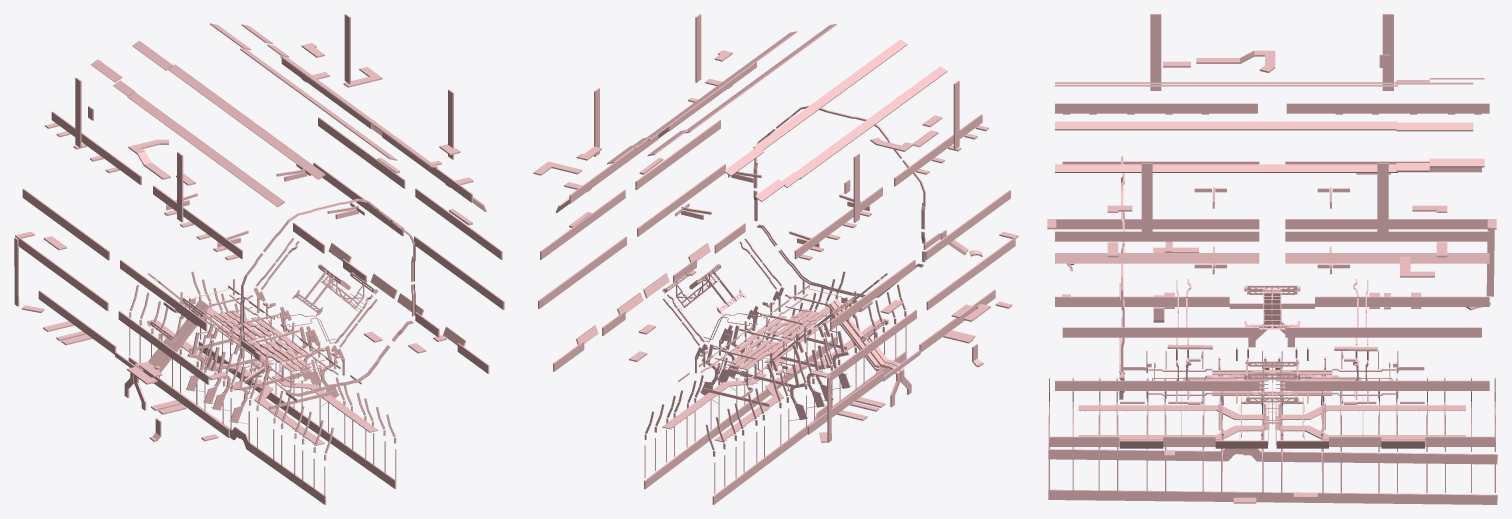
The model's file is Serv-Muon-Cable Trays.glb.
3 renders of one model, left to right at view 1: azimuth 30°, elevation 25°; view 2: azimuth 150°, elevation 25°; view 3: azimuth 270°, elevation 25°, orthographic. The views are drawn at different scales.
Parts seen in each view (by area): view 1: Cabble Trays; view 2: Cabble Trays; view 3: Cabble Trays.
Part boxes in pixels (x1,y1,x2,y2): Cabble Trays: (14,14,504,504); Cabble Trays: (533,14,1018,504); Cabble Trays: (1047,14,1497,504).
Size of the model in its own units: 25.96 by 25.01 by 25.76.
